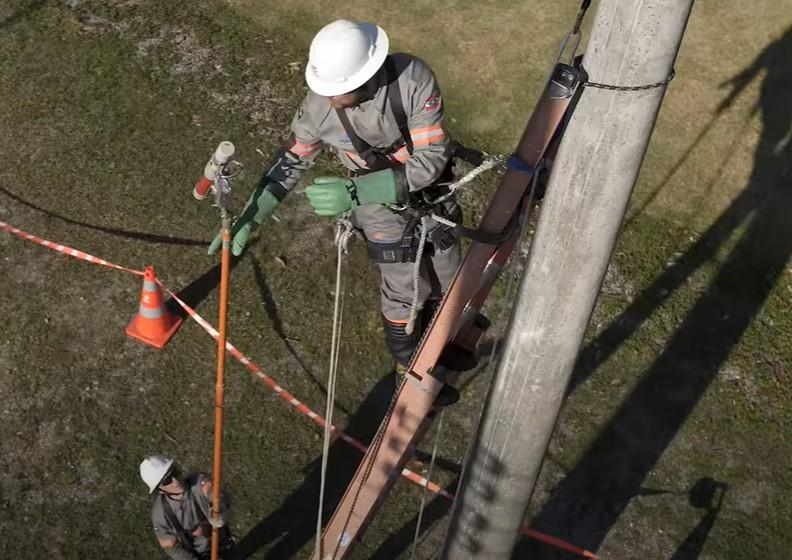Vara_Manobra: (210, 212, 234, 560)
